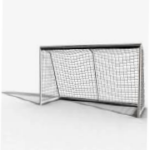goals: (38, 43, 147, 119)
